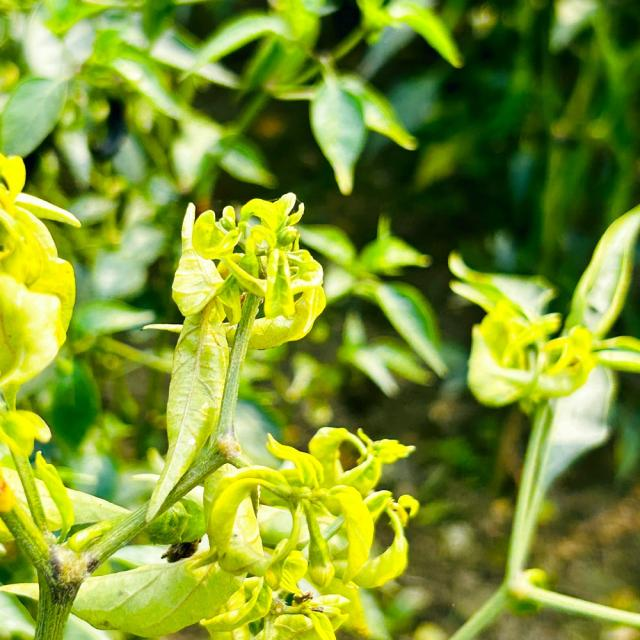Chilli_Leaf_Curl: (1, 153, 420, 638), (1, 0, 464, 195), (445, 203, 639, 637), (141, 191, 327, 525), (201, 424, 419, 638), (446, 203, 638, 414), (191, 190, 327, 350), (0, 151, 81, 405), (68, 546, 245, 638)
